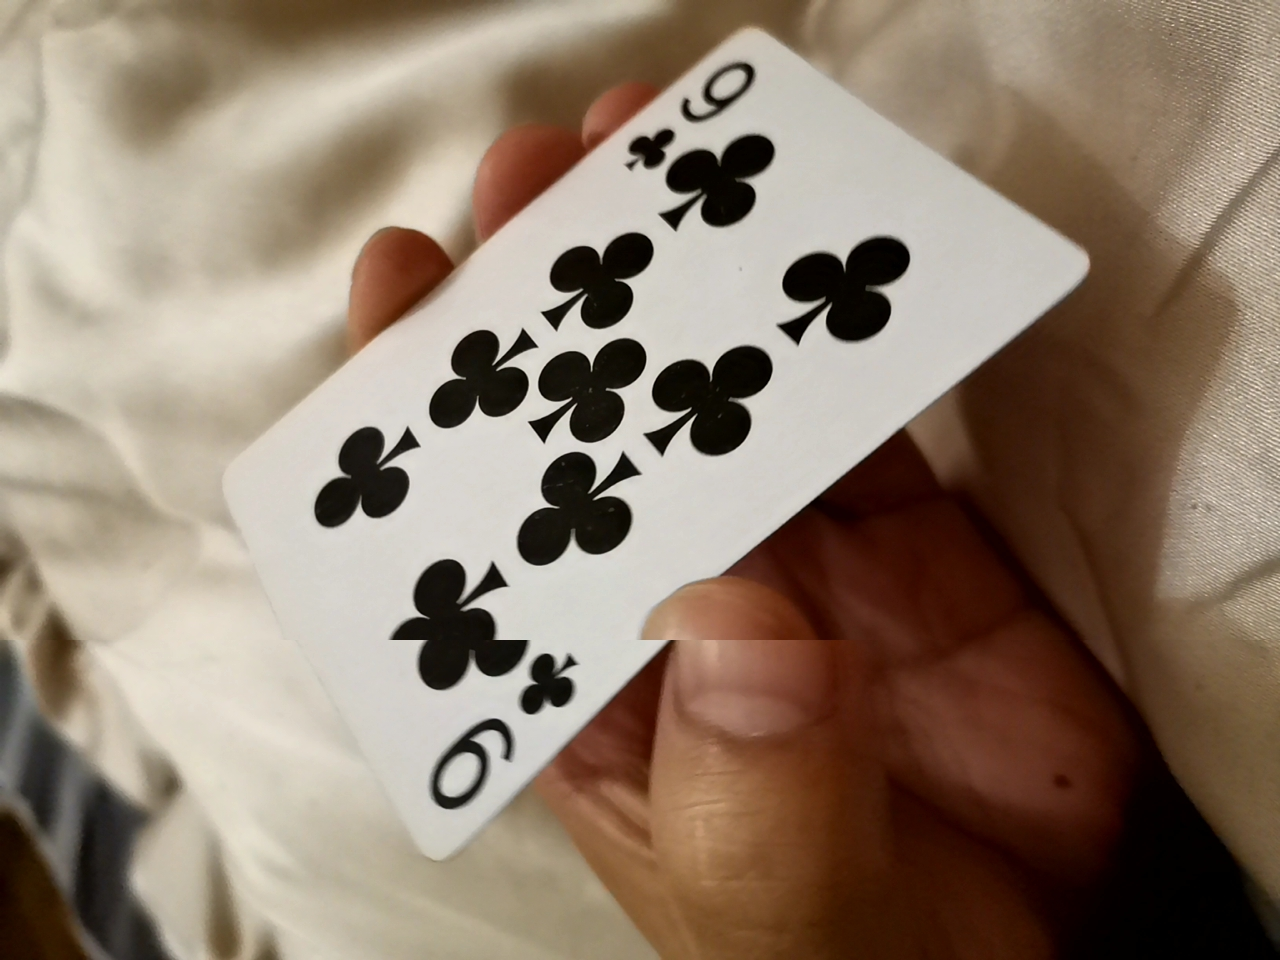mh 9: (213, 31, 1092, 816)
